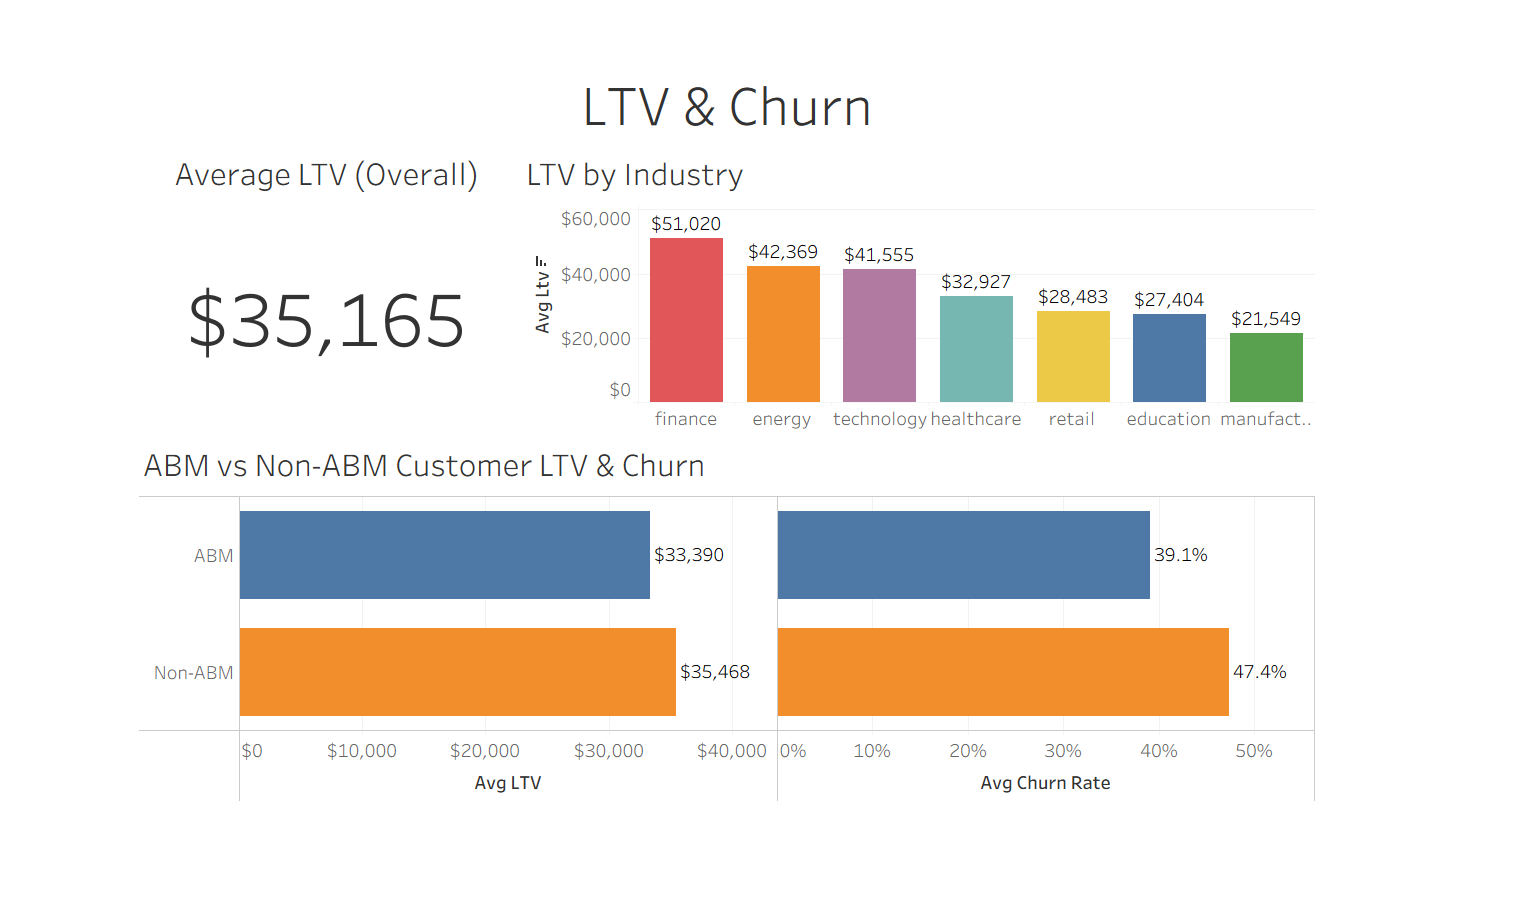

The dashboard page shown, as its layout file describes it:
{"tool":"tableau","page":{"name":"LTV & Churn","canvas":[1000,1000],"units":"permille","ordinal":3},"visuals":[{"type":"title","box":[5.1,10.6,989.7,105.5]},{"type":"worksheet","title":"avg_ltv","mark":"Automatic","box":[5.1,116.1,319.8,383.9]},{"type":"worksheet","title":"ltv_industry","mark":"Automatic","rows":["avg_ltv"],"cols":["industry"],"box":[324.9,116.1,669.9,383.9]},{"type":"worksheet","title":"ltvabmvsnon","mark":"Automatic","rows":["abm_status"],"cols":["avg_ltv","churn_rate"],"box":[5.1,500,989.7,489.4]}]}

Visuals, with their boxes on the dashboard's canvas, which has no fixed pixel size, in thousandths of its width and height (x1, y1, x2, y2). These are canvas units, not pixel positions in the 1513x897 screenshot, which may show the page scaled, cropped or inside an application window:
title: (x1=5, y1=11, x2=995, y2=116)
"avg_ltv" worksheet: (x1=5, y1=116, x2=325, y2=500)
"ltv_industry" worksheet: (x1=325, y1=116, x2=995, y2=500)
"ltvabmvsnon" worksheet: (x1=5, y1=500, x2=995, y2=989)
